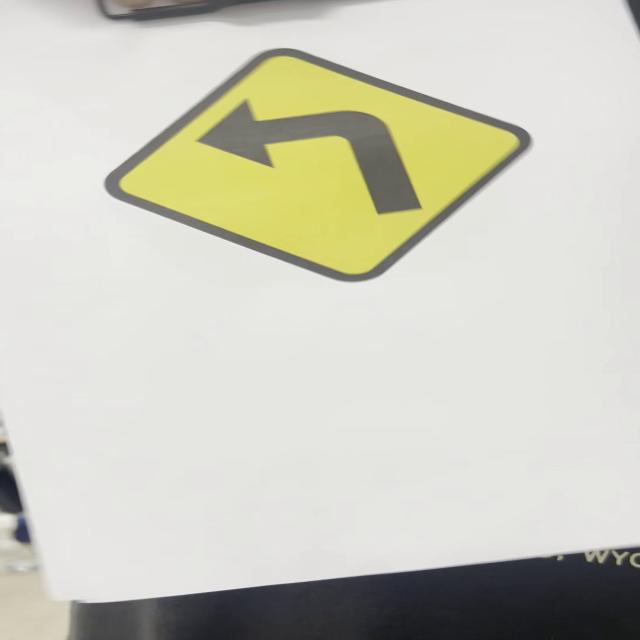left: (106, 48, 531, 286)
